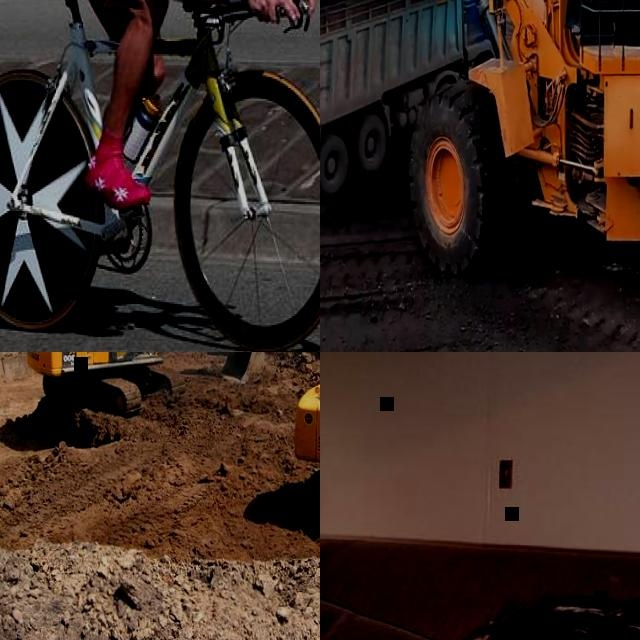Person: (25, 0, 316, 207), (320, 460, 640, 640)
machinery: (320, 0, 640, 336), (320, 0, 500, 207), (24, 352, 265, 415)
